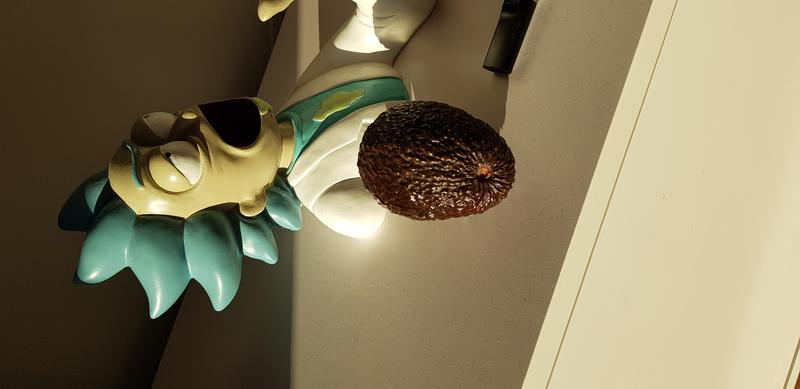Avocado: (348, 94, 537, 224)
